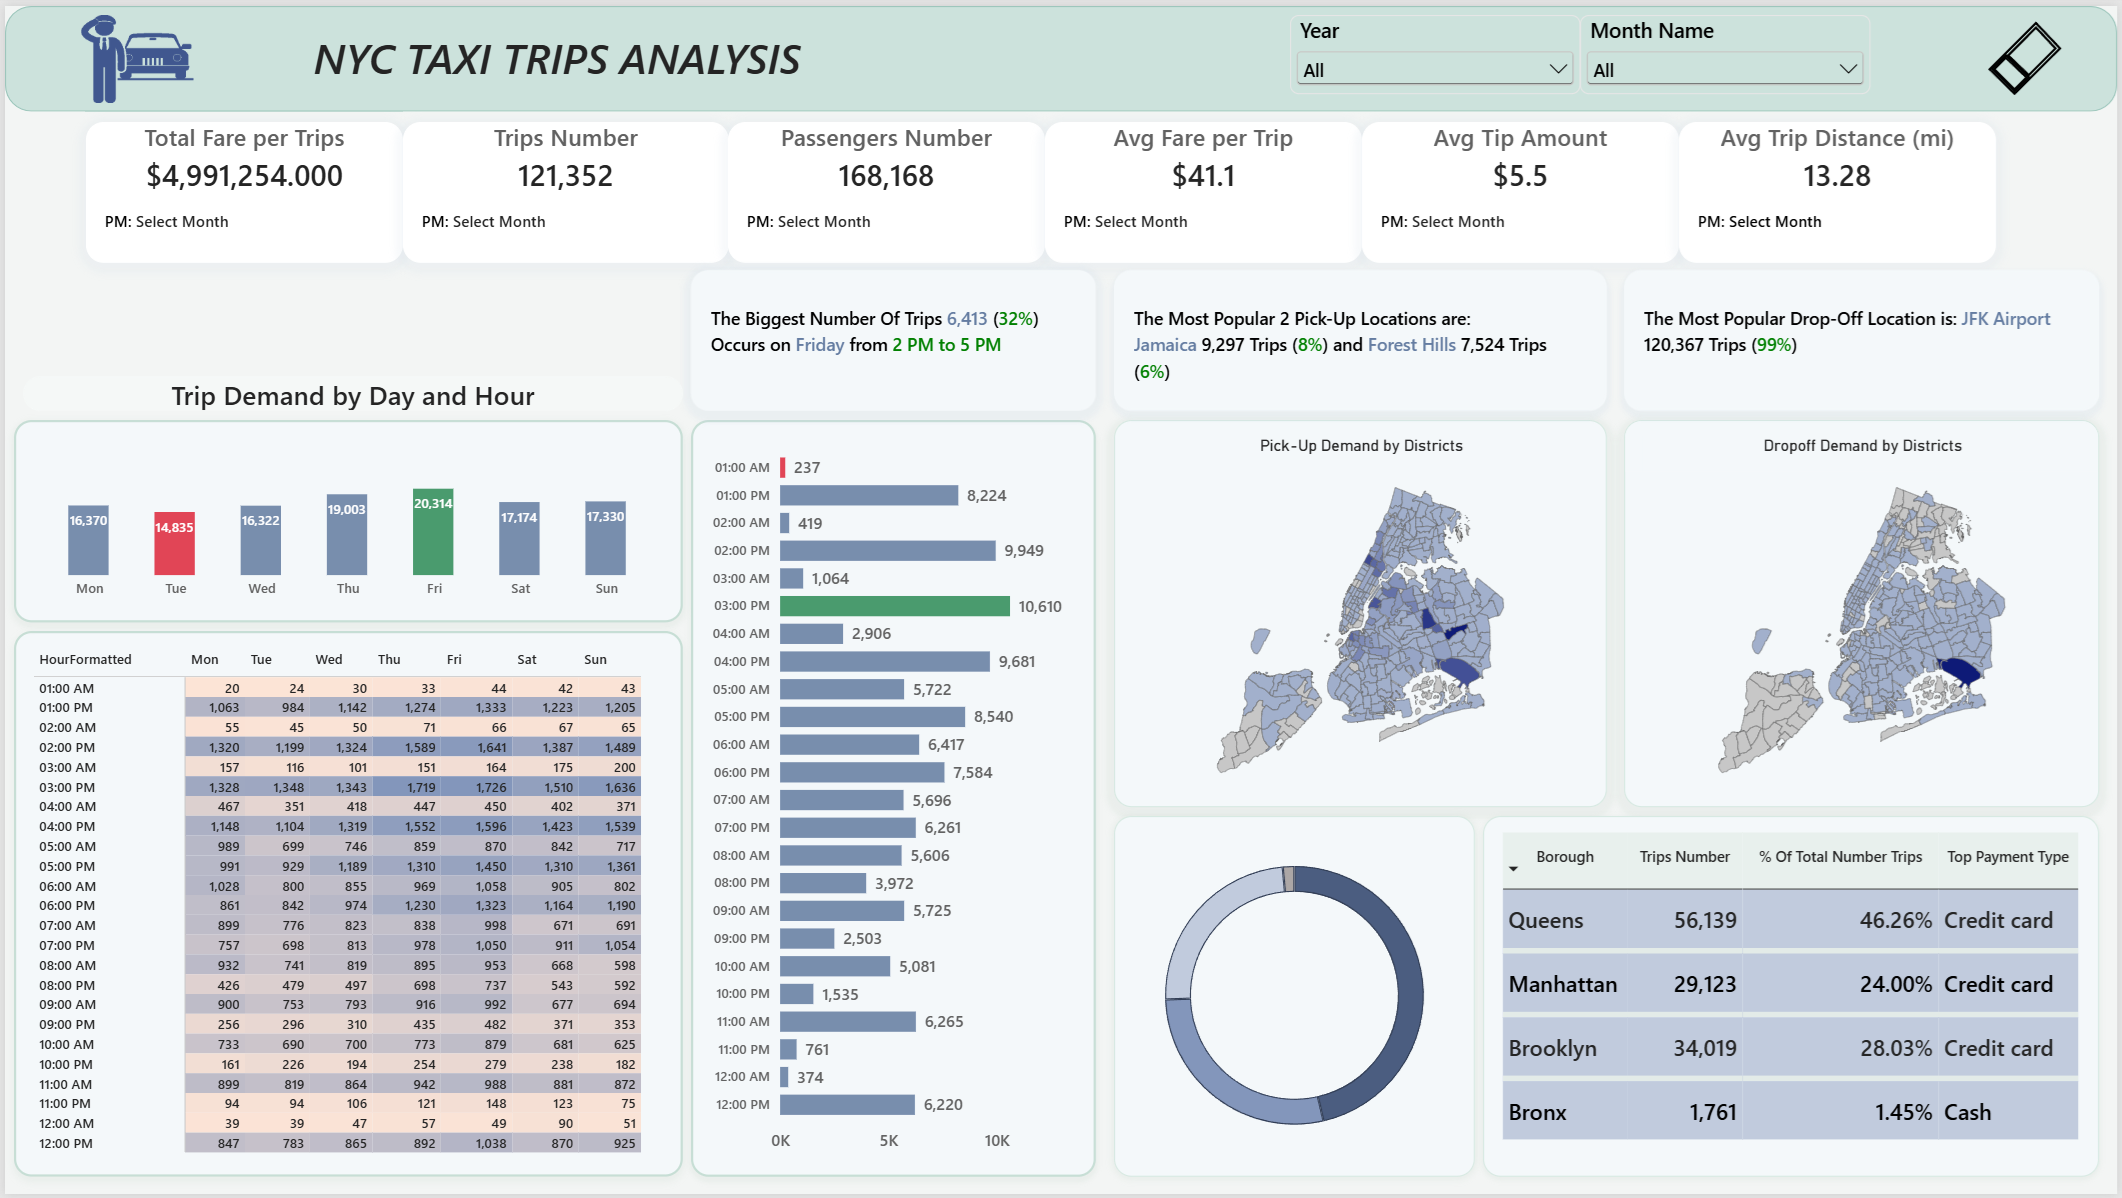

The page's visual inventory and layout, read from the dashboard file:
{"tool":"powerbi","page":{"name":"New York Taxi","canvas":[1920,1080],"ordinal":0},"visuals":[{"type":"shape","box":[0,0,1920,96],"z":0},{"type":"slicer","fields":{"Values":["Dim Date.Year"]},"box":[1168,8,264,72],"z":1000},{"type":"slicer","fields":{"Values":["Dim Date.Month Name"]},"box":[1432,8,264,72],"z":2000},{"type":"cardVisual","fields":{"Data":["_Measures.Total Fare per Trips"]},"box":[73.5,105.1,288,128],"z":3000},{"type":"cardVisual","fields":{"Data":["_Measures.Trips Num"]},"box":[361.5,105.1,296,128],"z":4000},{"type":"cardVisual","fields":{"Data":["_Measures.Passengers Num"]},"box":[657.5,105.1,288,128],"z":5000},{"type":"cardVisual","fields":{"Data":["_Measures.AVG Fare per Trip"]},"box":[945.5,105.1,288,128],"z":6000},{"type":"cardVisual","fields":{"Data":["_Measures.Avg Tip Amount"]},"box":[1233.5,105.1,288,128],"z":7000},{"type":"cardVisual","fields":{"Data":["_Measures.Avg Trip Distance"]},"box":[1521.5,105.1,288,128],"z":8000},{"type":"shapeMap","title":"Pick-Up Demand by Districts","fields":{"Category":["TaxiZones.Zone"],"Value":["_Measures.Trips Number"]},"box":[1008,376,448,352],"z":9000},{"type":"shapeMap","title":" Dropoff  Demand by Districts","fields":{"Category":["TaxiZones.Zone"],"Value":["_Measures.Trips Number Dropoff Location"]},"box":[1472,376,432,352],"z":10000},{"type":"tableEx","fields":{"Values":["TaxiZones.Borough","_Measures.Trips Number","_Measures.% Of Total Number Trips","_Measures.Top Payment Type"]},"box":[1344,736,560,328],"z":11000},{"type":"textbox","box":[384,760,168,40],"z":12000},{"type":"textbox","box":[384,800,168,48],"z":13000},{"type":"textbox","box":[384,848,168,40],"z":14000},{"type":"donutChart","fields":{"Category":["TaxiZones.Borough"],"Y":["_Measures.Trips Number"]},"box":[1008,736,328,328],"z":15000},{"type":"pivotTable","fields":{"Columns":["Dim Date.Week Day"],"Rows":["HourTable.HourFormatted"],"Values":["_Measures.Trip Num for Martix (No Blanks)"]},"box":[8,568,608,496],"z":16000},{"type":"clusteredBarChart","fields":{"Category":["HourTable.HourFormatted"],"Y":["_Measures.Trip Num for Martix (No Blanks)"]},"box":[624,376,368,688],"z":17000},{"type":"clusteredColumnChart","fields":{"Category":["Dim Date.Week Day"],"Y":["_Measures.Trip Num for Martix (No Blanks)"]},"box":[8,376,608,184],"z":18000},{"type":"htmlContent443BE3AD55E043BF878BED274D3A6865","title":"Number of Trips by Days of Week and Time","fields":{"content":["_Measures.Trips Number Summary HTML"]},"box":[624,240,368,128],"z":19000},{"type":"htmlContent443BE3AD55E043BF878BED274D3A6865","fields":{"content":["_Measures.Top 2 Pick Up Zones HTML with %"]},"box":[1008,240,448,128],"z":20000},{"type":"htmlContent443BE3AD55E043BF878BED274D3A6865","fields":{"content":["_Measures.Top 1 Drop-Off Zone HTML with %"]},"box":[1472,240,432,128],"z":21000},{"type":"actionButton","box":[1776,8,120,80],"z":22000},{"type":"image","box":[16,8,208,80],"z":23000},{"type":"textbox","box":[250,22,504,53],"z":24000},{"type":"cardVisual","fields":{"Data":["_Measures.Trip Demand by Day and Hour"]},"box":[16,336,600,32],"z":24001}]}

Visuals, with their boxes in screenshot pixels (x1, y1, x2, y2), scaled from the page's 1920x1080 canvas onto the 2122x1198 screenshot:
shape: bbox(0, 0, 2121, 106)
slicer - Dim Date.Year: bbox(1291, 9, 1583, 89)
slicer - Dim Date.Month Name: bbox(1583, 9, 1874, 89)
cardVisual - _Measures.Total Fare per Trips: bbox(81, 117, 400, 259)
cardVisual - _Measures.Trips Num: bbox(400, 117, 727, 259)
cardVisual - _Measures.Passengers Num: bbox(727, 117, 1045, 259)
cardVisual - _Measures.AVG Fare per Trip: bbox(1045, 117, 1363, 259)
cardVisual - _Measures.Avg Tip Amount: bbox(1363, 117, 1682, 259)
cardVisual - _Measures.Avg Trip Distance: bbox(1682, 117, 2000, 259)
"Pick-Up Demand by Districts" shapeMap: bbox(1114, 417, 1609, 808)
" Dropoff  Demand by Districts" shapeMap: bbox(1627, 417, 2104, 808)
tableEx - TaxiZones.Borough x _Measures.Trips Number: bbox(1485, 816, 2104, 1180)
textbox: bbox(424, 843, 610, 887)
textbox: bbox(424, 887, 610, 941)
textbox: bbox(424, 941, 610, 985)
donutChart - TaxiZones.Borough x _Measures.Trips Number: bbox(1114, 816, 1477, 1180)
pivotTable - Dim Date.Week Day x HourTable.HourFormatted: bbox(9, 630, 681, 1180)
clusteredBarChart - HourTable.HourFormatted x _Measures.Trip Num for Martix (No Blanks): bbox(690, 417, 1096, 1180)
clusteredColumnChart - Dim Date.Week Day x _Measures.Trip Num for Martix (No Blanks): bbox(9, 417, 681, 621)
"Number of Trips by Days of Week and Time" htmlContent443BE3AD55E043BF878BED274D3A6865: bbox(690, 266, 1096, 408)
htmlContent443BE3AD55E043BF878BED274D3A6865 - _Measures.Top 2 Pick Up Zones HTML with %: bbox(1114, 266, 1609, 408)
htmlContent443BE3AD55E043BF878BED274D3A6865 - _Measures.Top 1 Drop-Off Zone HTML with %: bbox(1627, 266, 2104, 408)
actionButton: bbox(1963, 9, 2095, 98)
image: bbox(18, 9, 248, 98)
textbox: bbox(276, 24, 833, 83)
cardVisual - _Measures.Trip Demand by Day and Hour: bbox(18, 373, 681, 408)
